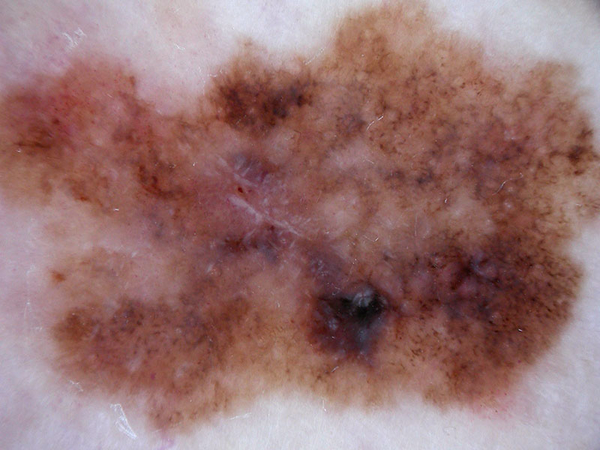Detected Lesion: (1, 2, 600, 431)
